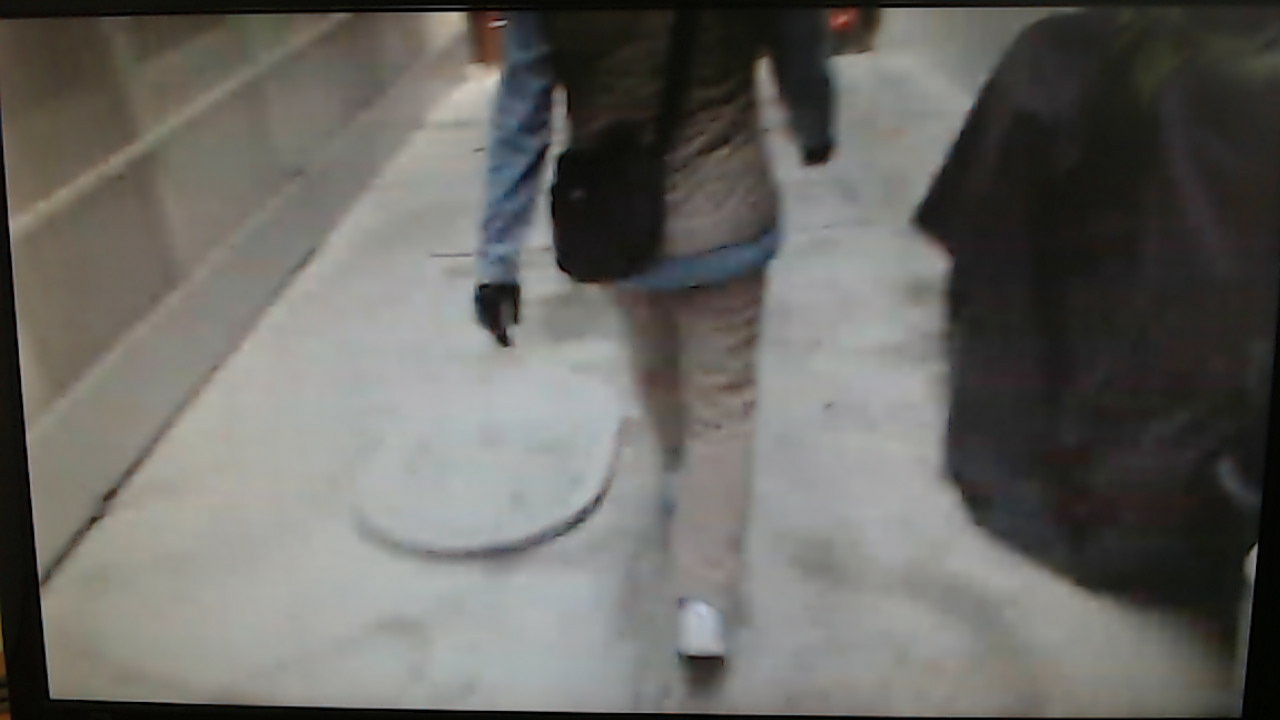Yakurut: (452, 13, 903, 683)
